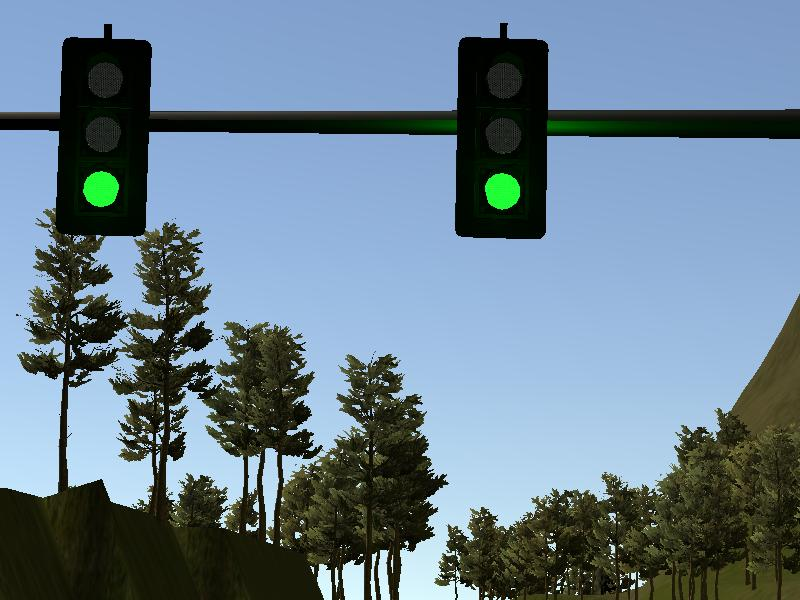green: (52, 35, 154, 236), (454, 36, 550, 240)
